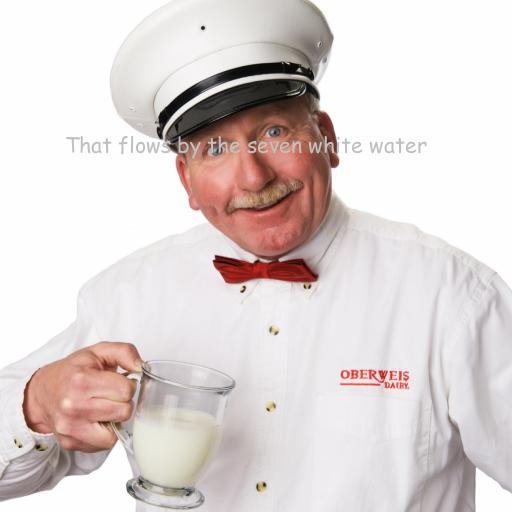Comic Sans MS: (65, 135, 427, 159)
